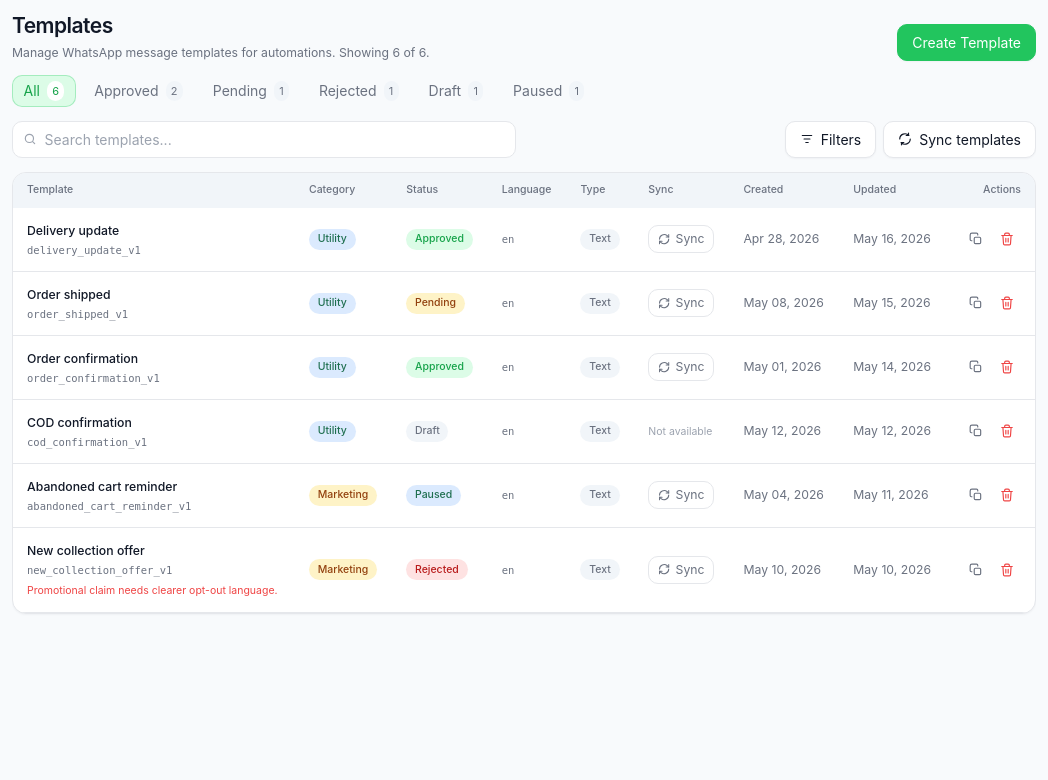
Scenario: filters templates by status
Click the button "Rejected 1".
click(359, 91)  # box [307,75,410,106]
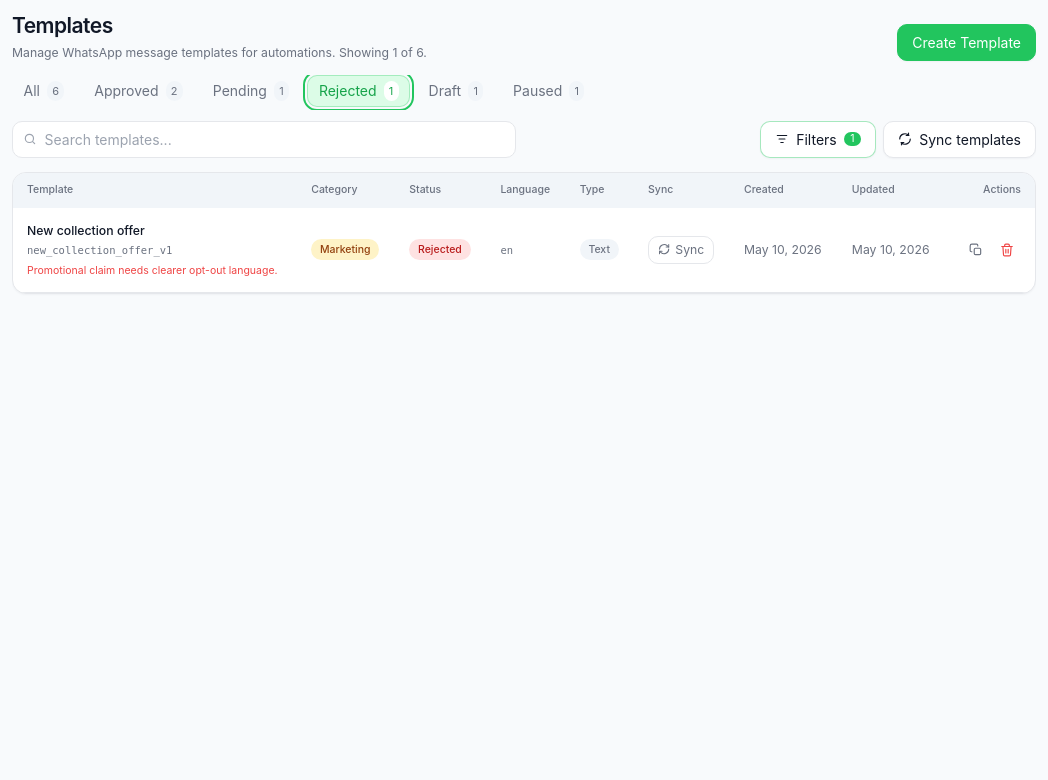
Expected: the text "New collection offer" is shown 2 times
Expected: the text "Order shipped" is gone
